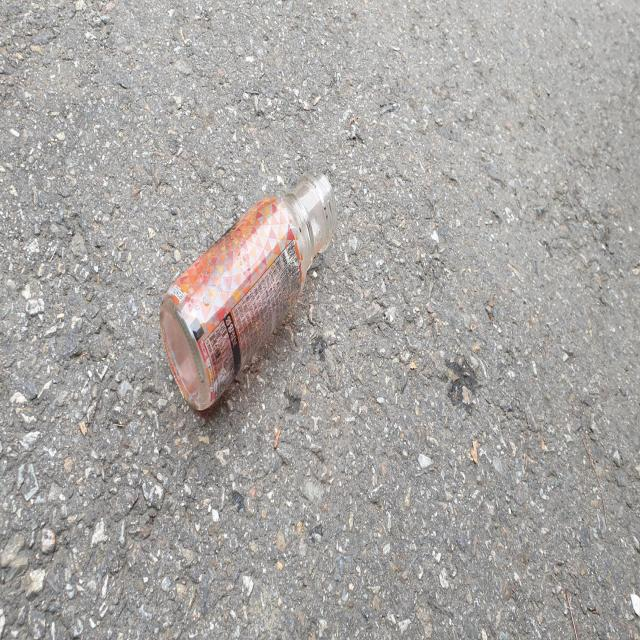glass: (160, 172, 337, 409)
